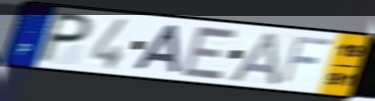4: (88, 16, 132, 71)
A: (224, 29, 281, 87), (131, 23, 183, 75)
E: (178, 23, 242, 82)
F: (277, 34, 337, 86)
P: (32, 10, 97, 64)
